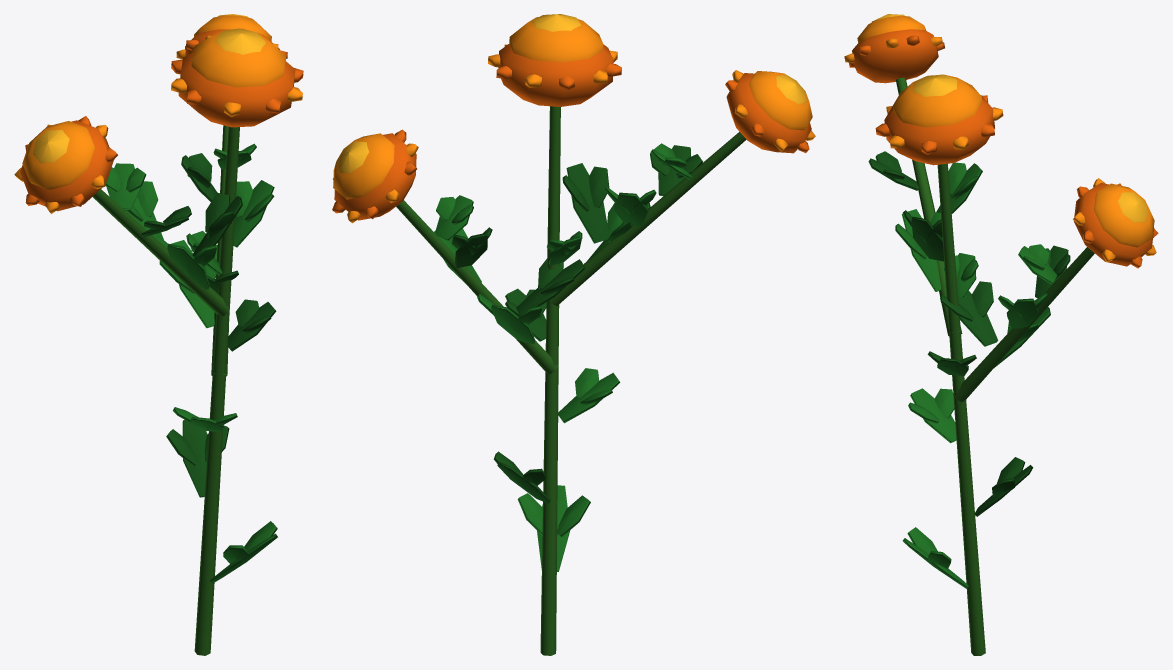
File: cempasuchil.obj
The picture shows the model from 3 angles, left to right: view 1: azimuth 30°, elevation 25°; view 2: azimuth 150°, elevation 25°; view 3: azimuth 270°, elevation 25°; orthographic projection. The views are drawn at different scales.
Parts seen in each view (by area): view 1: cempasuchil; view 2: cempasuchil; view 3: cempasuchil.
Boxes of the visible parts, x1,y1,x2,y2 form: cempasuchil: (14,14,303,655); cempasuchil: (332,14,815,655); cempasuchil: (844,14,1158,655).
Size of the model in its own units: 0.3433 by 0.5589 by 0.2736.
